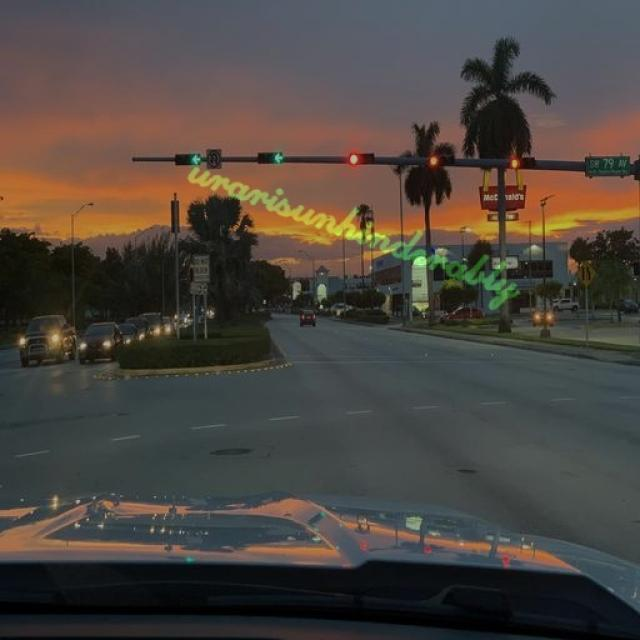watermark: (178, 148, 546, 306)
